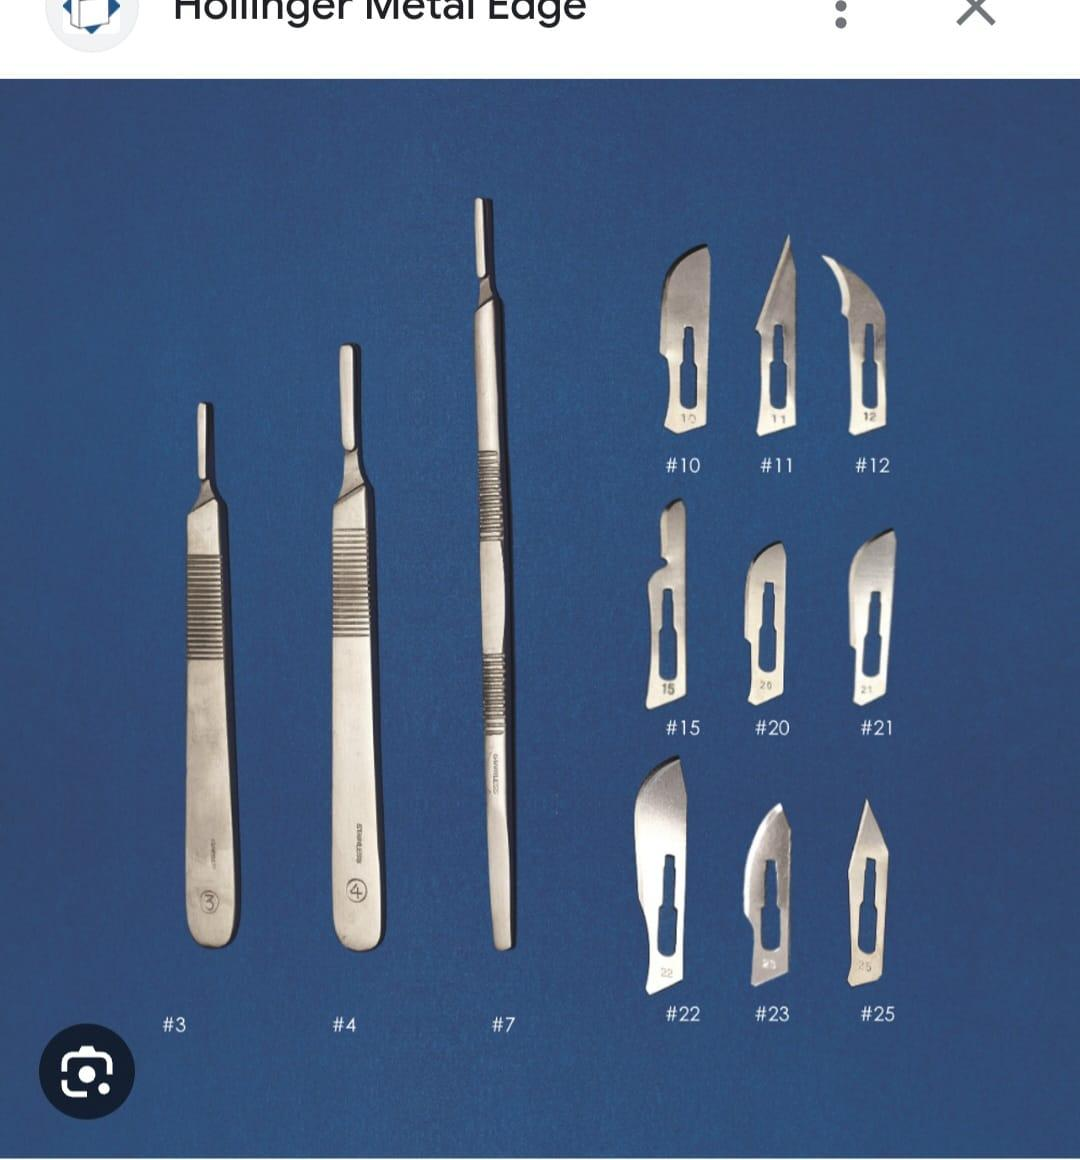Knife handle: (447, 167, 533, 963), (302, 318, 390, 970), (170, 380, 257, 975)
Surgical blade: (618, 747, 705, 1002), (635, 227, 723, 450), (827, 520, 915, 712), (817, 247, 902, 443), (732, 788, 807, 993), (833, 792, 898, 998), (730, 533, 798, 712), (750, 232, 803, 443)
